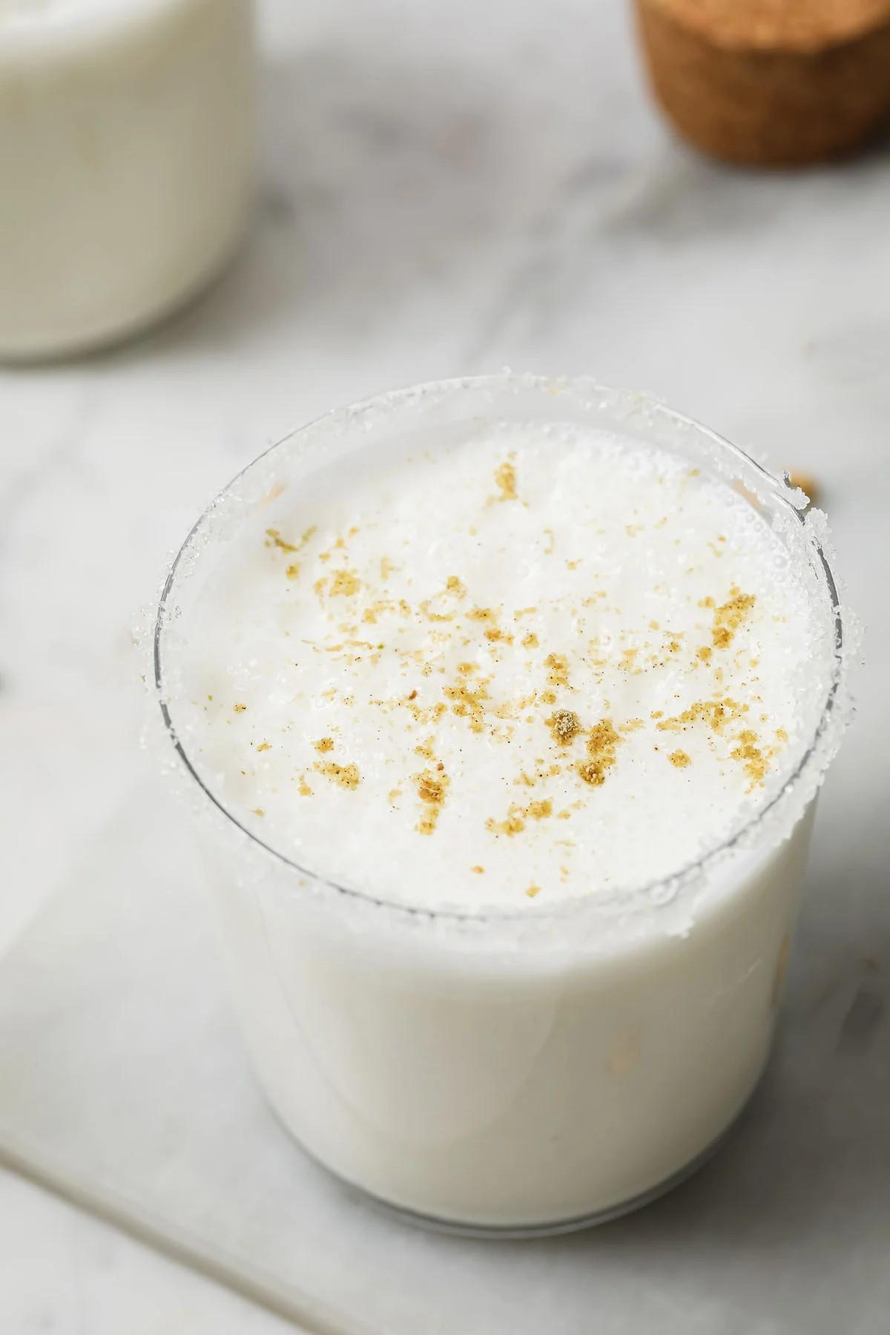Lassi: (175, 413, 834, 1223)
